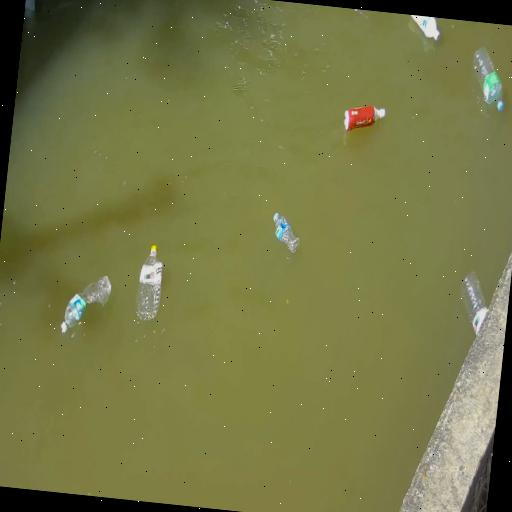plastic: (61, 276, 111, 333), (136, 245, 162, 320), (474, 48, 503, 110), (462, 273, 487, 334), (344, 106, 385, 131), (274, 213, 299, 253), (412, 15, 439, 40)
